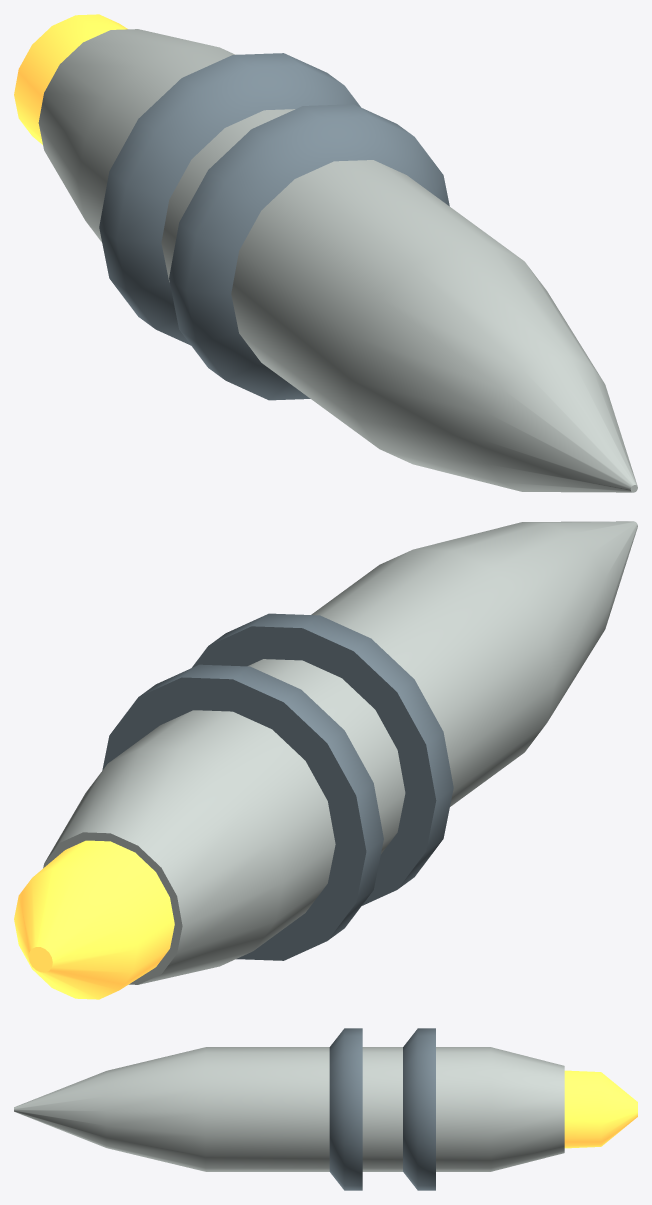
File: zb_gun.glb
The picture shows the model from 3 angles, top to bottom: view 1: azimuth 30°, elevation 25°; view 2: azimuth 150°, elevation 25°; view 3: azimuth 270°, elevation 25°; orthographic projection. The views are drawn at different scales.
Visible parts, largest first — view 1: zb_gun / Ivory ceramic, zb_gun / Machined titanium, zb_gun / Tracer ember; view 2: zb_gun / Ivory ceramic, zb_gun / Machined titanium, zb_gun / Tracer ember; view 3: zb_gun / Ivory ceramic, zb_gun / Machined titanium, zb_gun / Tracer ember.
Boxes of the visible parts, x1,y1,x2,y2 form: zb_gun / Ivory ceramic: [38, 29, 637, 492]; zb_gun / Machined titanium: [99, 53, 449, 400]; zb_gun / Tracer ember: [14, 14, 127, 144]; zb_gun / Ivory ceramic: [43, 521, 637, 984]; zb_gun / Machined titanium: [102, 613, 453, 960]; zb_gun / Tracer ember: [14, 840, 174, 999]; zb_gun / Ivory ceramic: [14, 1047, 564, 1171]; zb_gun / Machined titanium: [329, 1028, 435, 1190]; zb_gun / Tracer ember: [564, 1070, 637, 1148].
Bounding box in the file's own units: 4.42 × 4.42 × 17.
